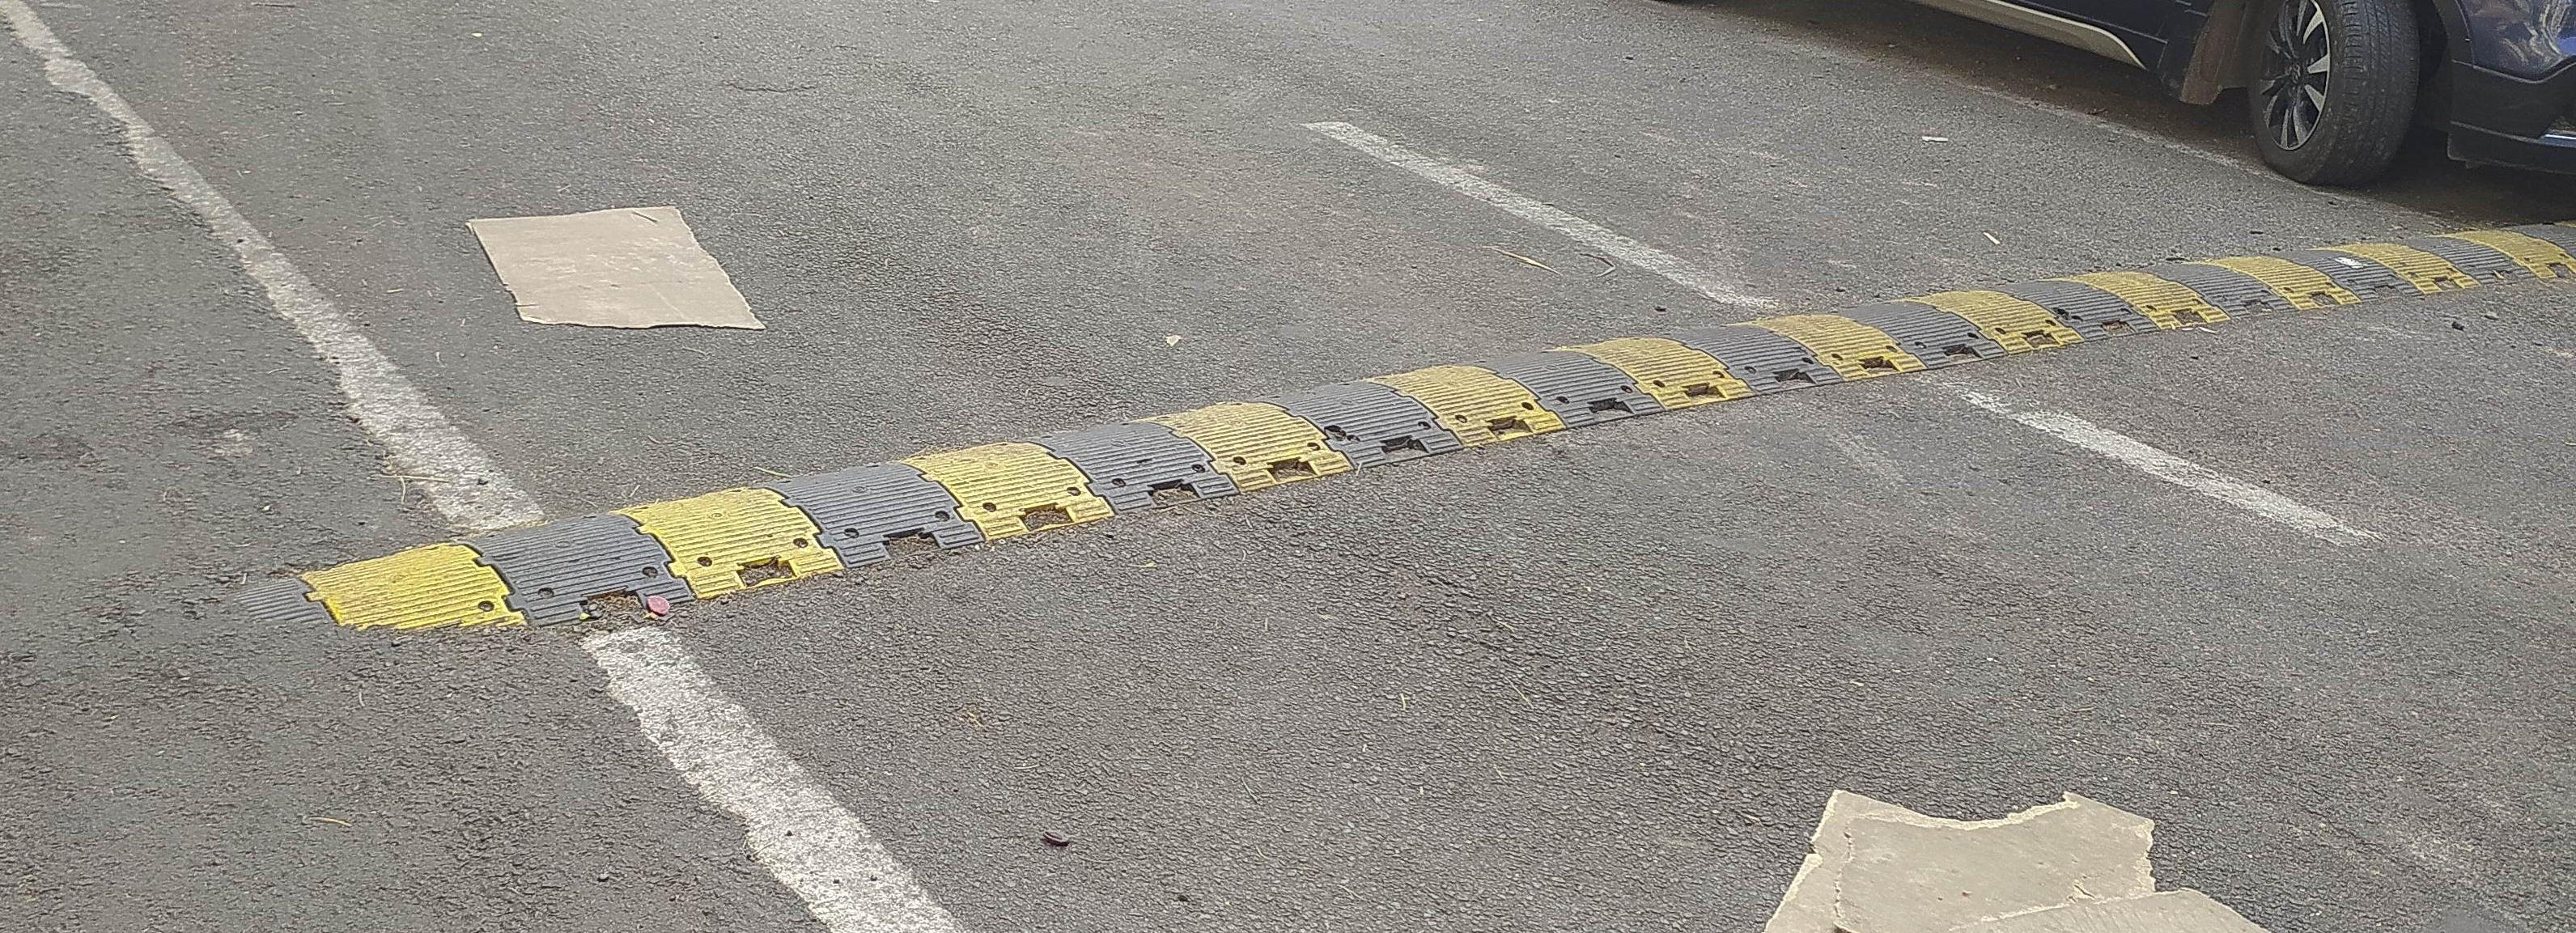speed-bump: (10, 213, 2572, 702)
